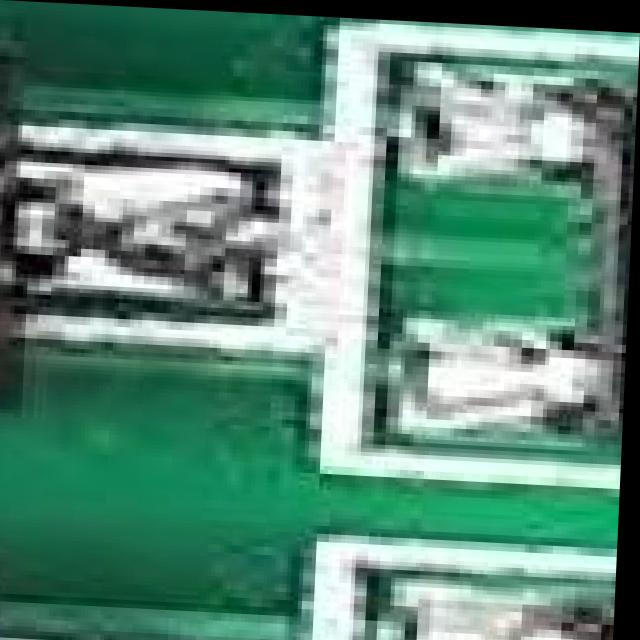transistor: (425, 54, 639, 454), (0, 24, 127, 465), (0, 556, 193, 640), (442, 587, 620, 640)
